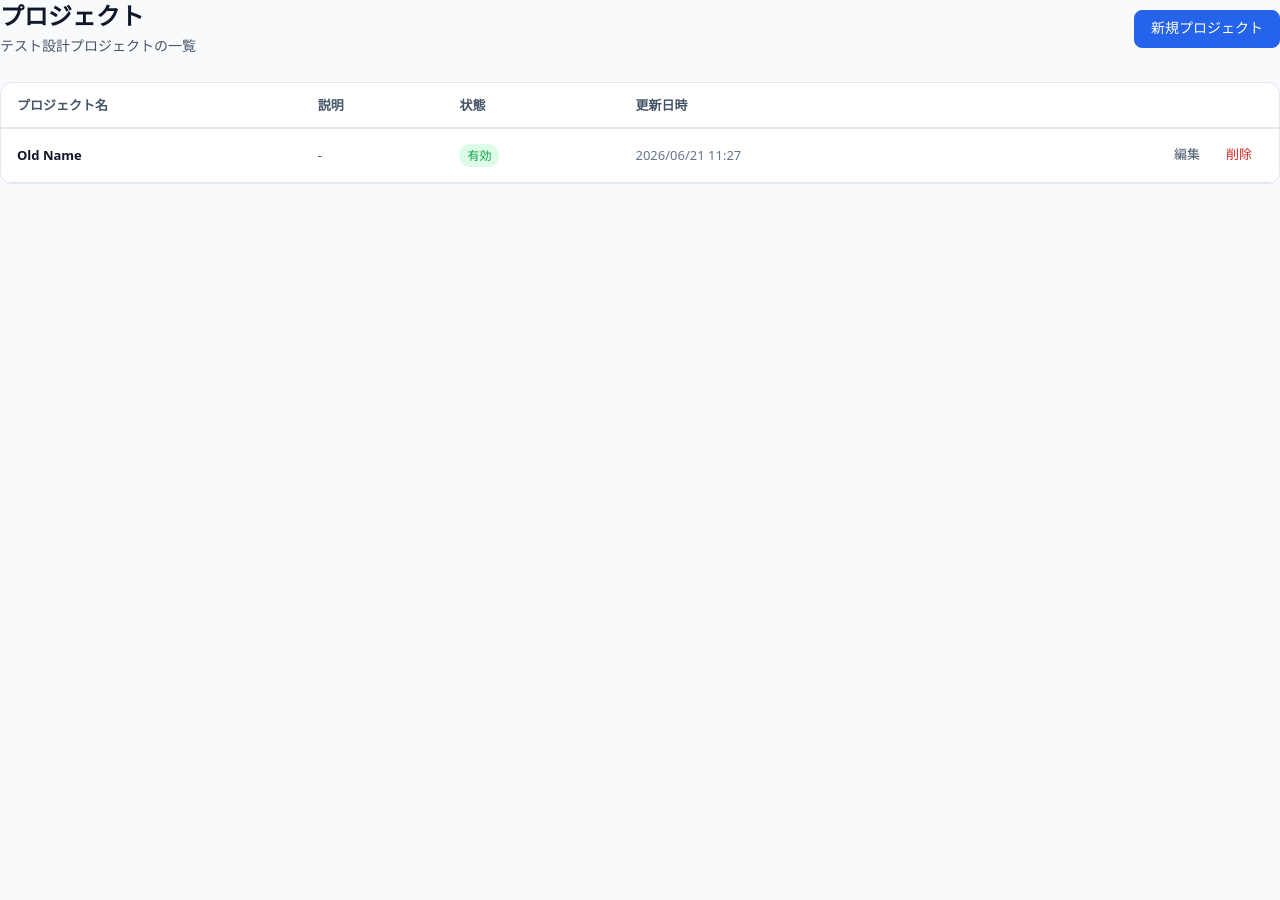
Test case: ProjectListPage › edits a project
The image size is (1280, 900).
Expected: the text "Old Name" is shown, x1=1 y1=128 x2=302 y2=183
Click the button "編集" at (1187,156), box x1=1163 y1=141 x2=1211 y2=170
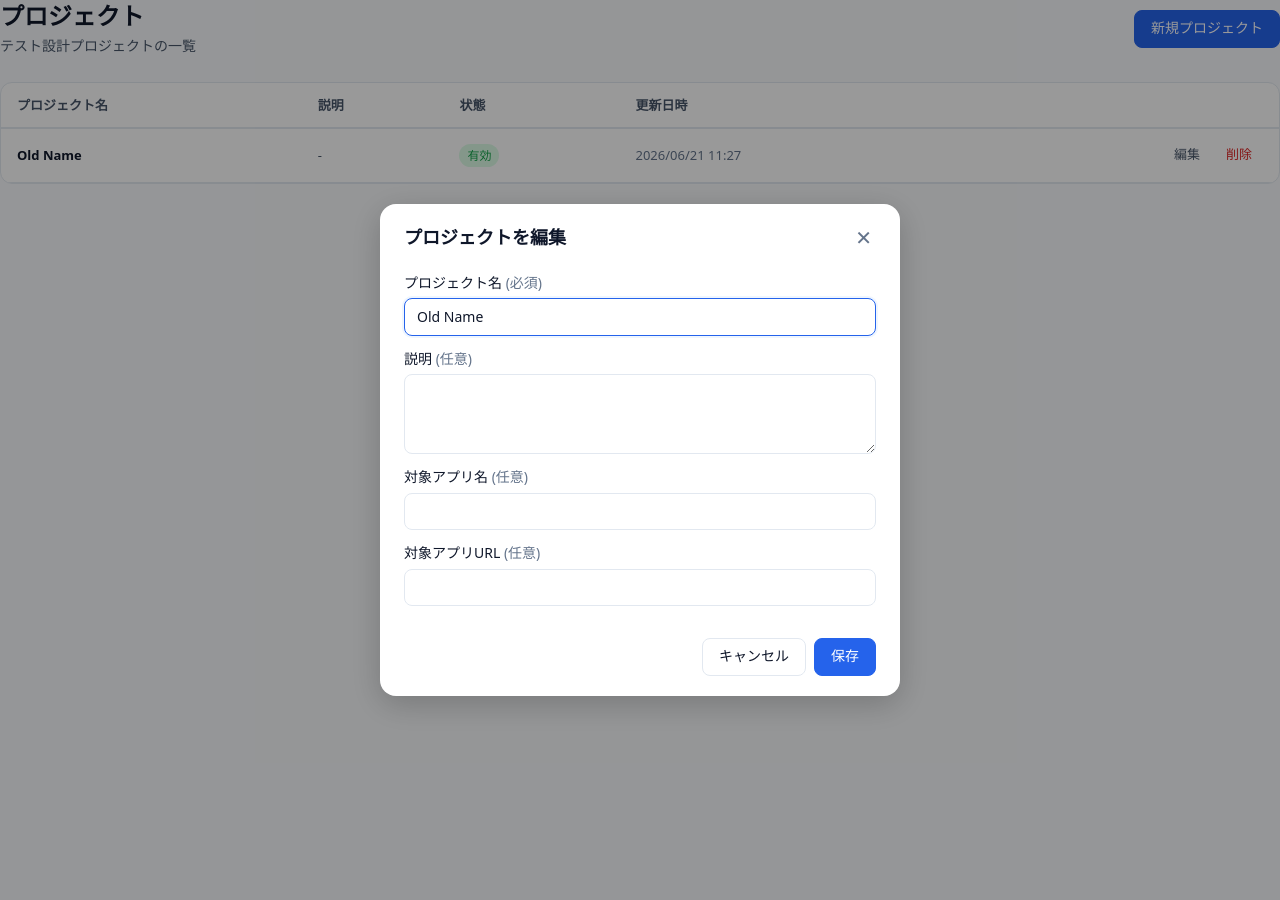
Replace the text in the field labelled "プロジェクト名 (必須)" with "Updated Name" at (640,317), box x1=404 y1=298 x2=876 y2=336
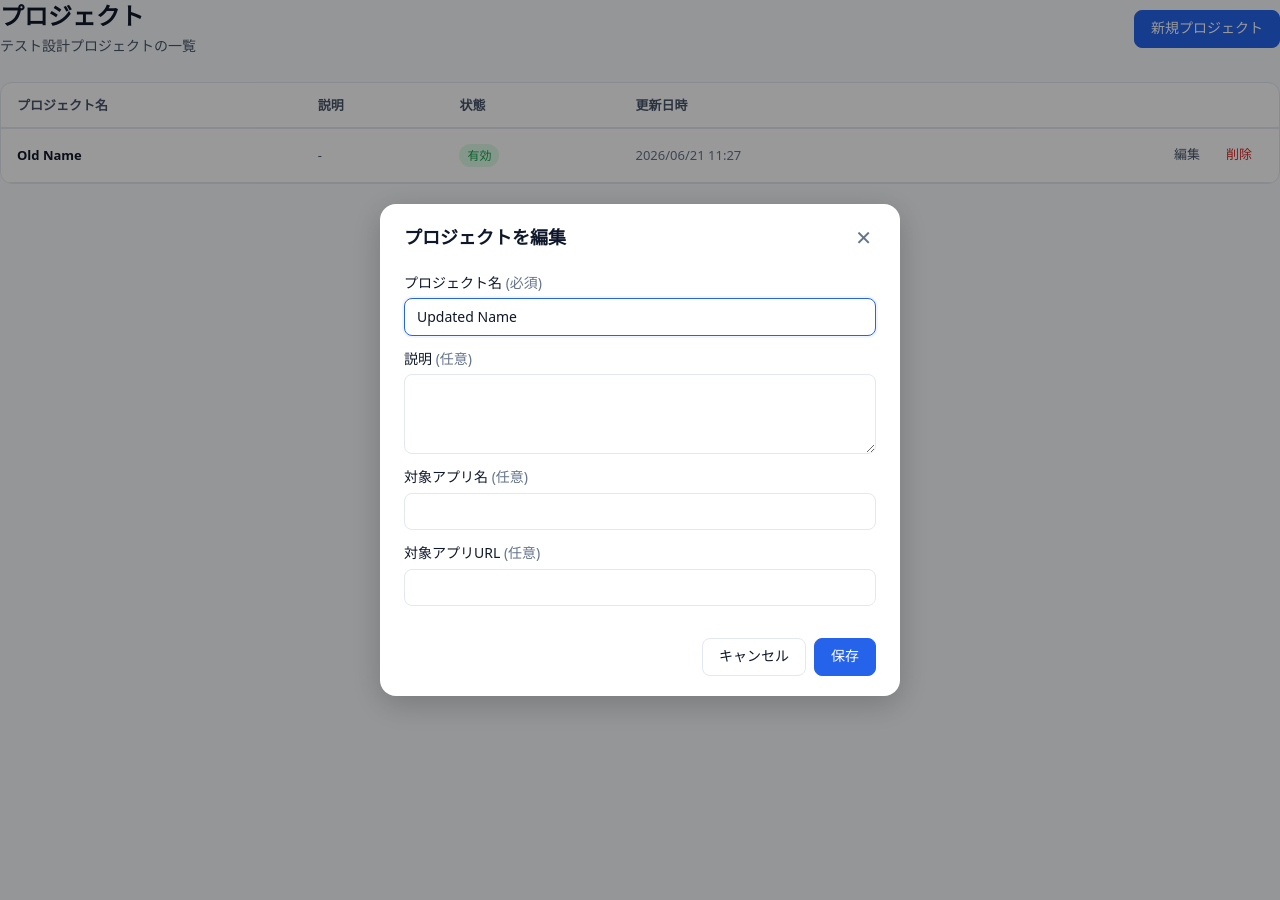
Click the button "保存" at (845,657), box x1=814 y1=638 x2=876 y2=676
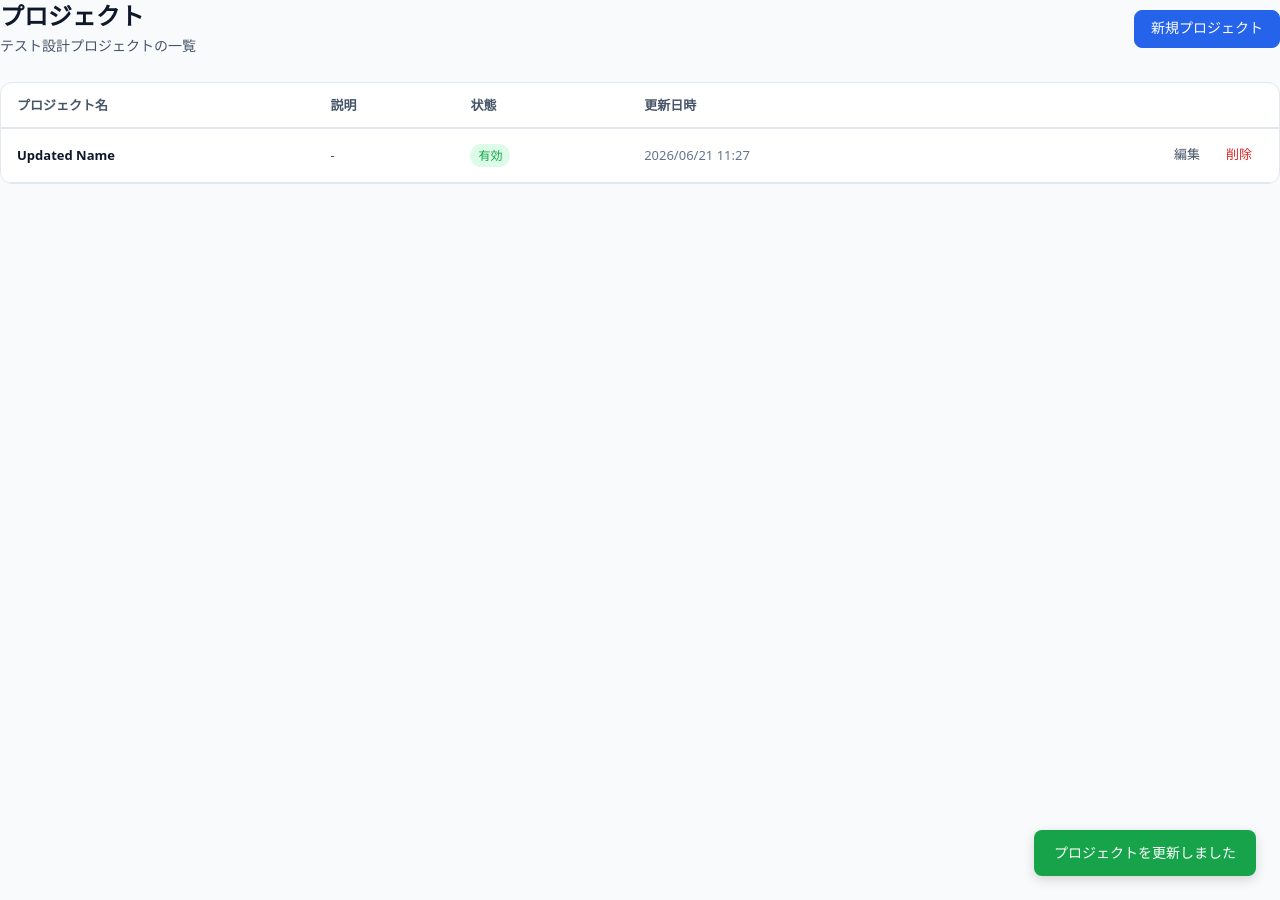
Expected: the text "プロジェクトを更新しました" is shown, x1=1034 y1=830 x2=1256 y2=876
Expected: the text "Updated Name" is shown, x1=1 y1=128 x2=314 y2=183
